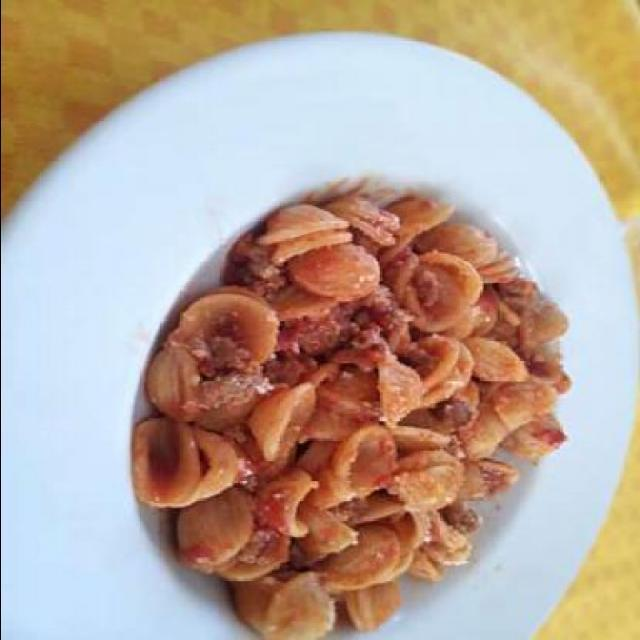Pasta al ragu: (109, 212, 580, 638)
